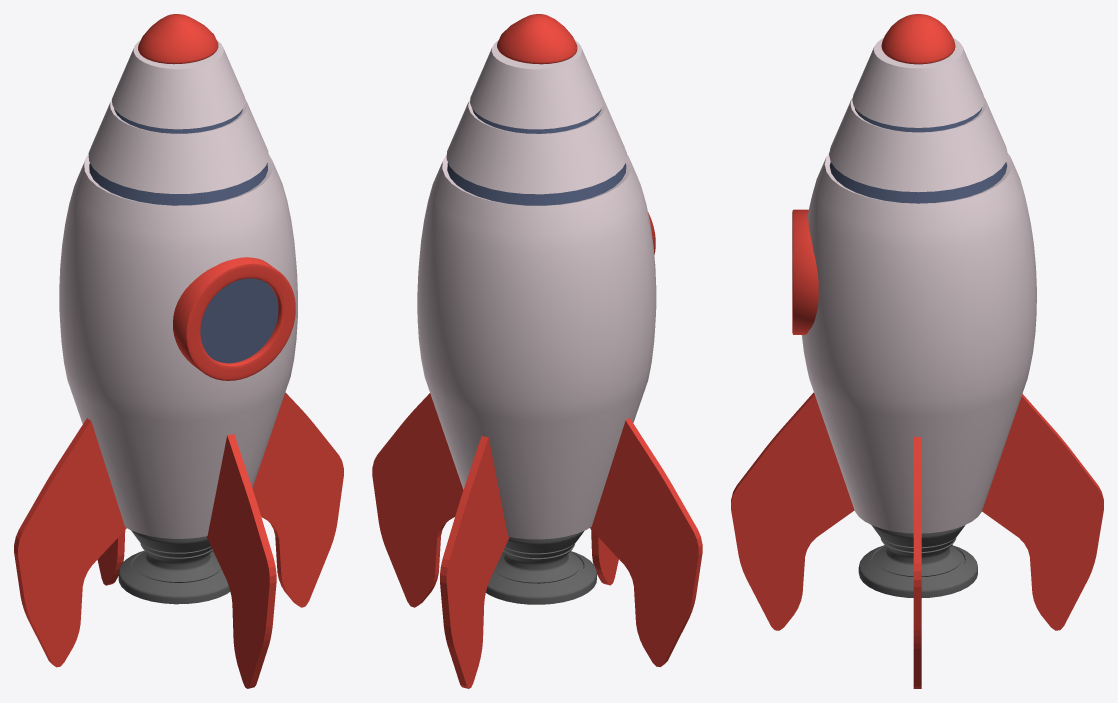
File: rocket.gltf
3 renders of one model, left to right at view 1: azimuth 30°, elevation 25°; view 2: azimuth 150°, elevation 25°; view 3: azimuth 270°, elevation 25°, orthographic.
Visible parts, largest first — view 1: Cylinder, Plane.001, Cylinder.002, Cylinder.003, Sphere; view 2: Cylinder, Plane.001, Cylinder.003, Sphere; view 3: Cylinder, Plane.001, Cylinder.003, Sphere, Cylinder.002.
Boxes of the visible parts, box(x1,y1,x2,y2) form: Cylinder: box(59, 40, 297, 538); Plane.001: box(14, 392, 343, 688); Cylinder.002: box(173, 257, 295, 380); Cylinder.003: box(118, 530, 230, 604); Sphere: box(138, 14, 218, 64); Cylinder: box(417, 40, 656, 539); Plane.001: box(372, 393, 702, 688); Cylinder.003: box(486, 531, 596, 604); Sphere: box(497, 14, 577, 64); Cylinder: box(801, 38, 1036, 533); Plane.001: box(731, 392, 1103, 688); Cylinder.003: box(858, 525, 977, 597); Sphere: box(881, 14, 955, 64); Cylinder.002: box(792, 209, 818, 334).
Bounding box in the file's own units: 0.3741 × 0.6786 × 0.3741.
